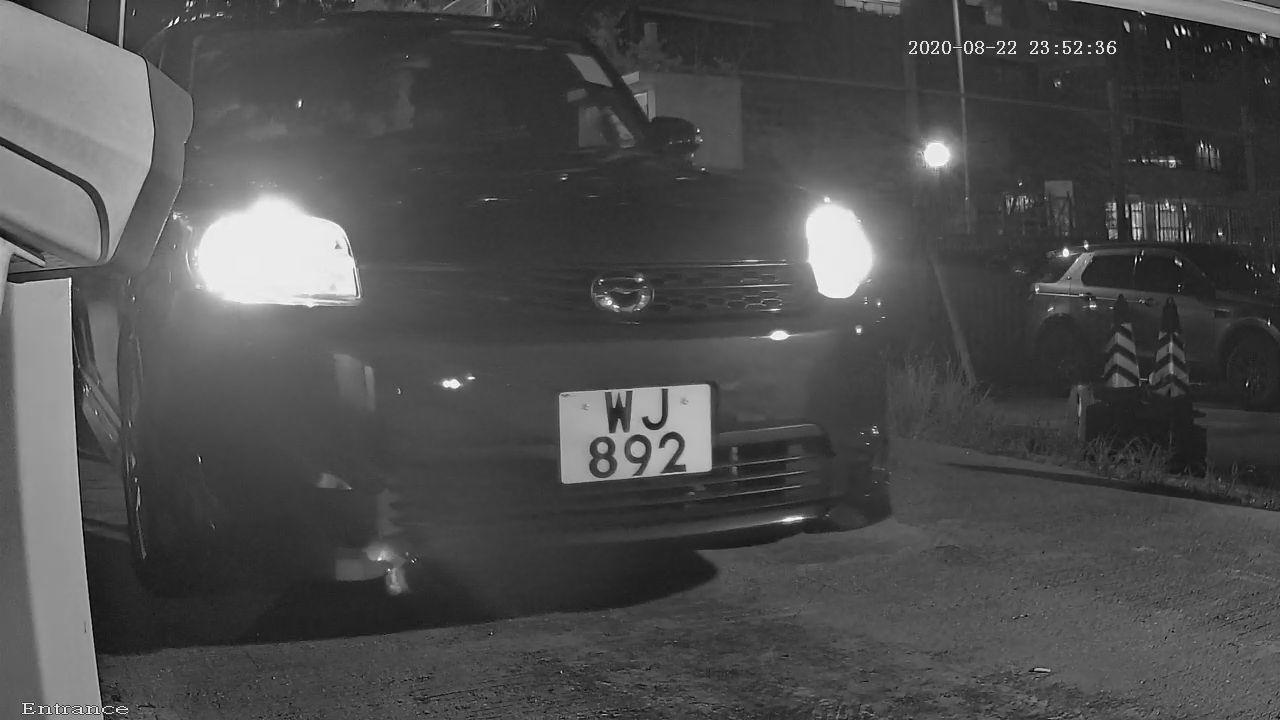Car: (1, 4, 1001, 666)
License Plate: (532, 370, 732, 505)
